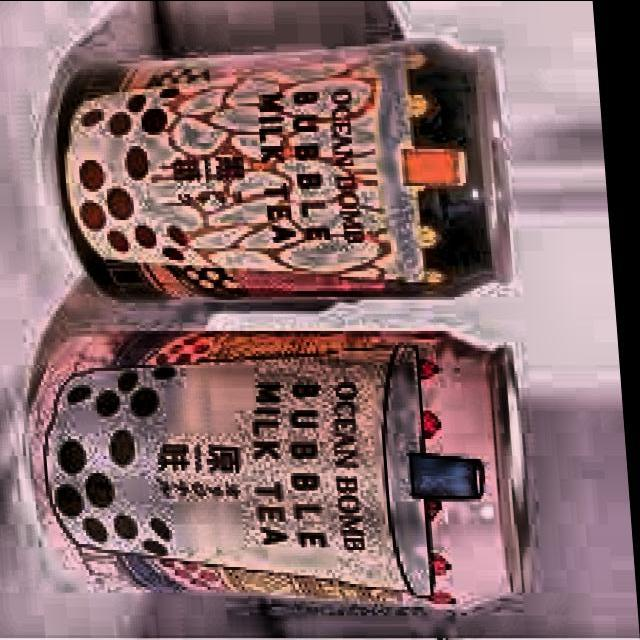Aluminum Can: (19, 318, 549, 619), (37, 30, 533, 313)
